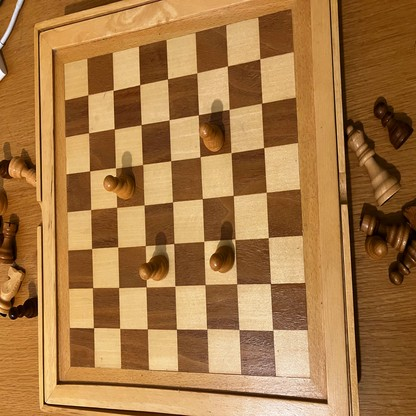knight_white: (0, 267, 25, 314)
pawn_black: (374, 98, 413, 147), (390, 247, 416, 285), (10, 297, 39, 318)
pawn_white: (139, 254, 168, 282), (104, 174, 135, 200), (199, 122, 224, 151), (211, 245, 235, 272), (365, 237, 386, 257)
queen_white: (347, 120, 402, 206)
rock_black: (362, 209, 409, 250), (0, 223, 19, 262)
